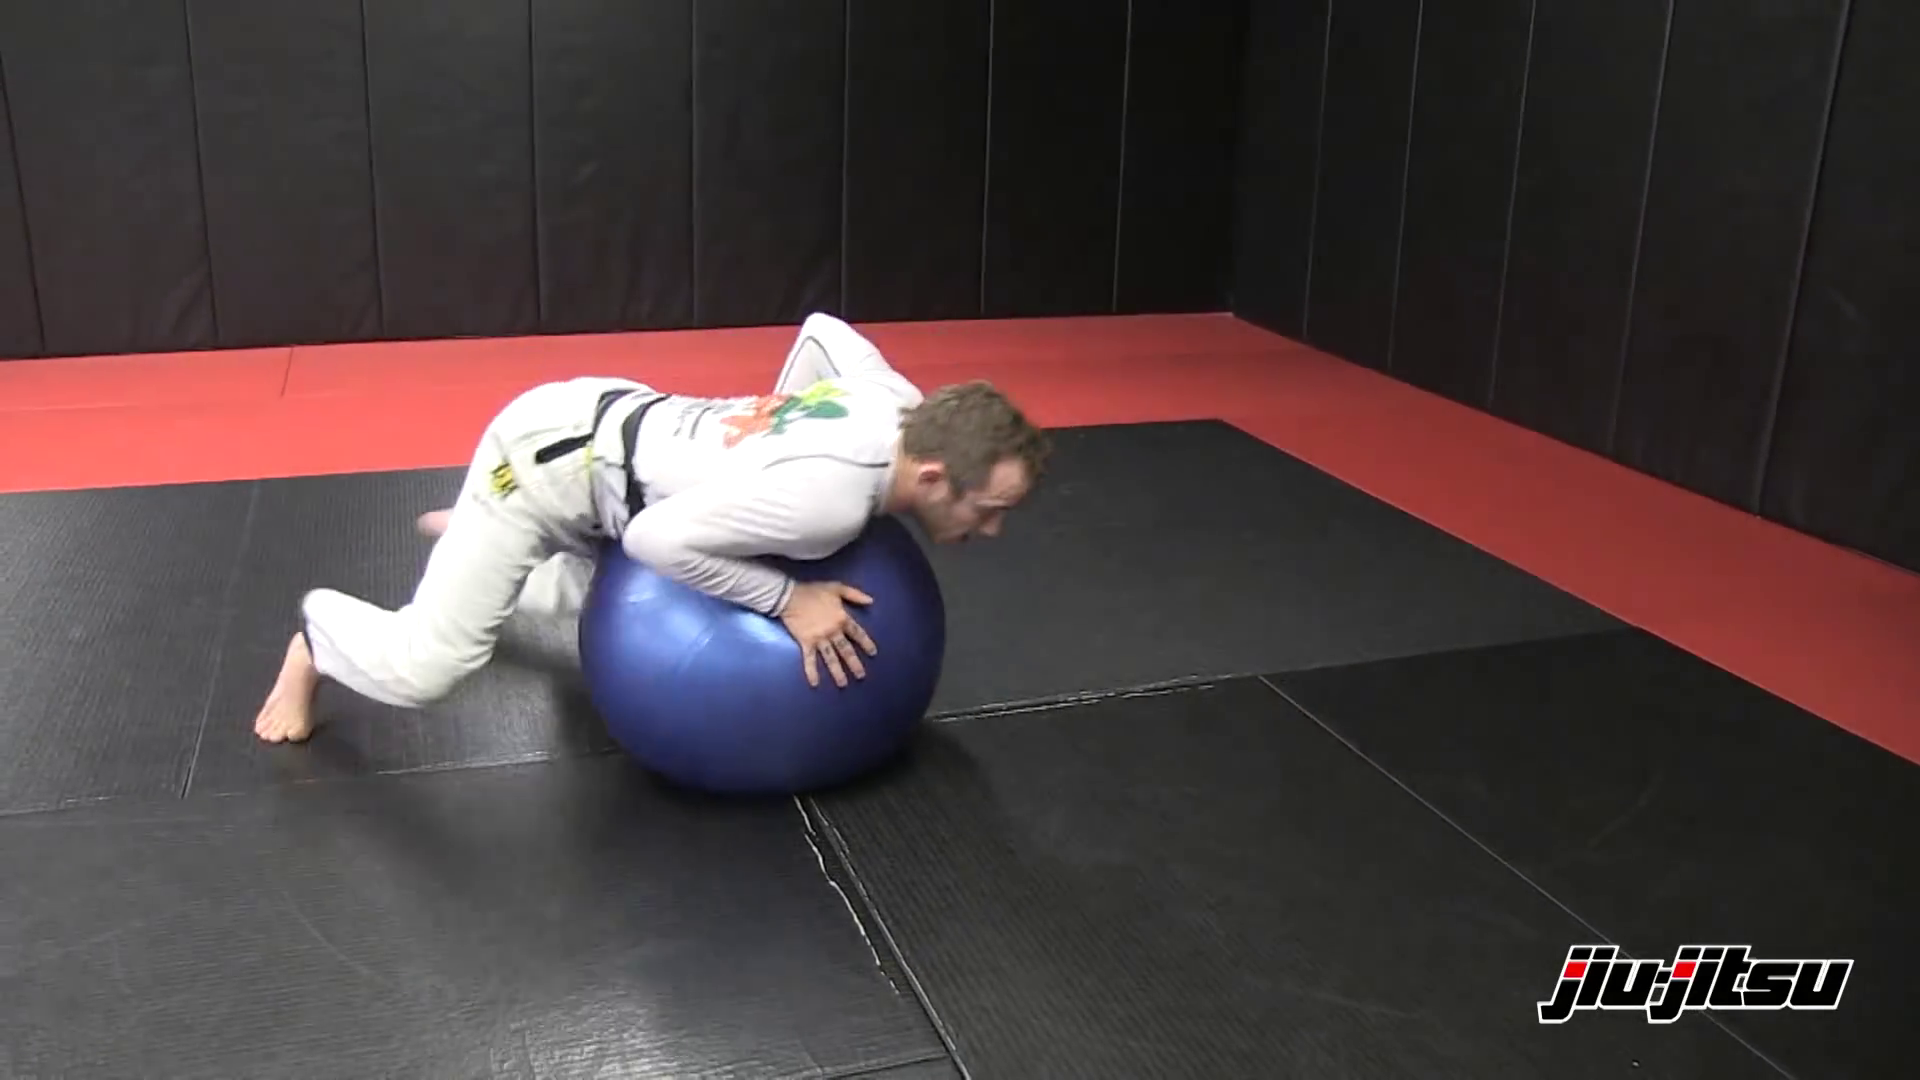yogaball: (570, 481, 971, 819)
